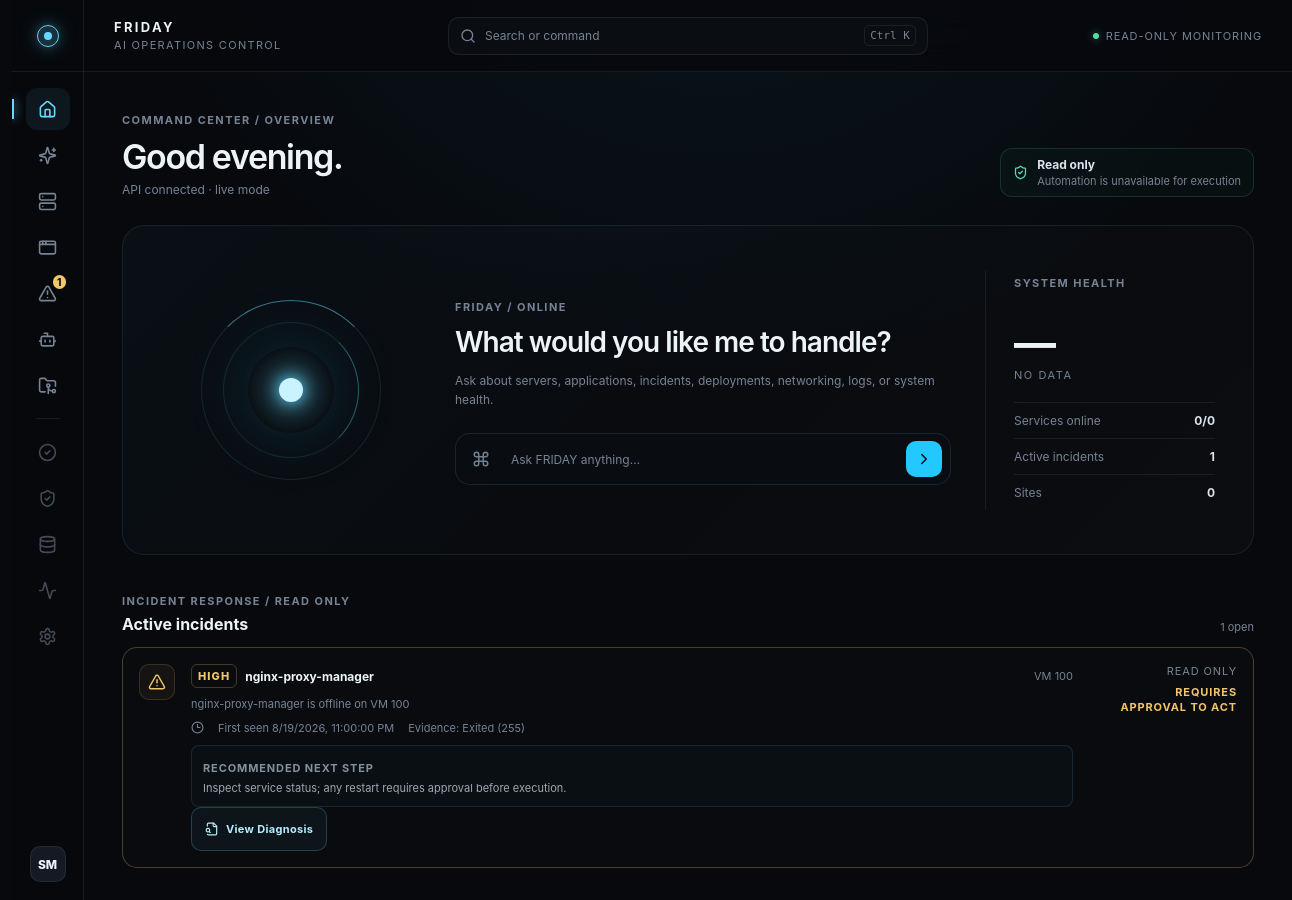
Test case: Friday v3 command center › fetches monitoring history when Incidents is activated
Expected: the text "API connected · live mode" is shown, [122,182,270,197]
Step 1. Click the button titled "Incidents" → (48, 293), box [26,272,70,314]
(page scrolled)
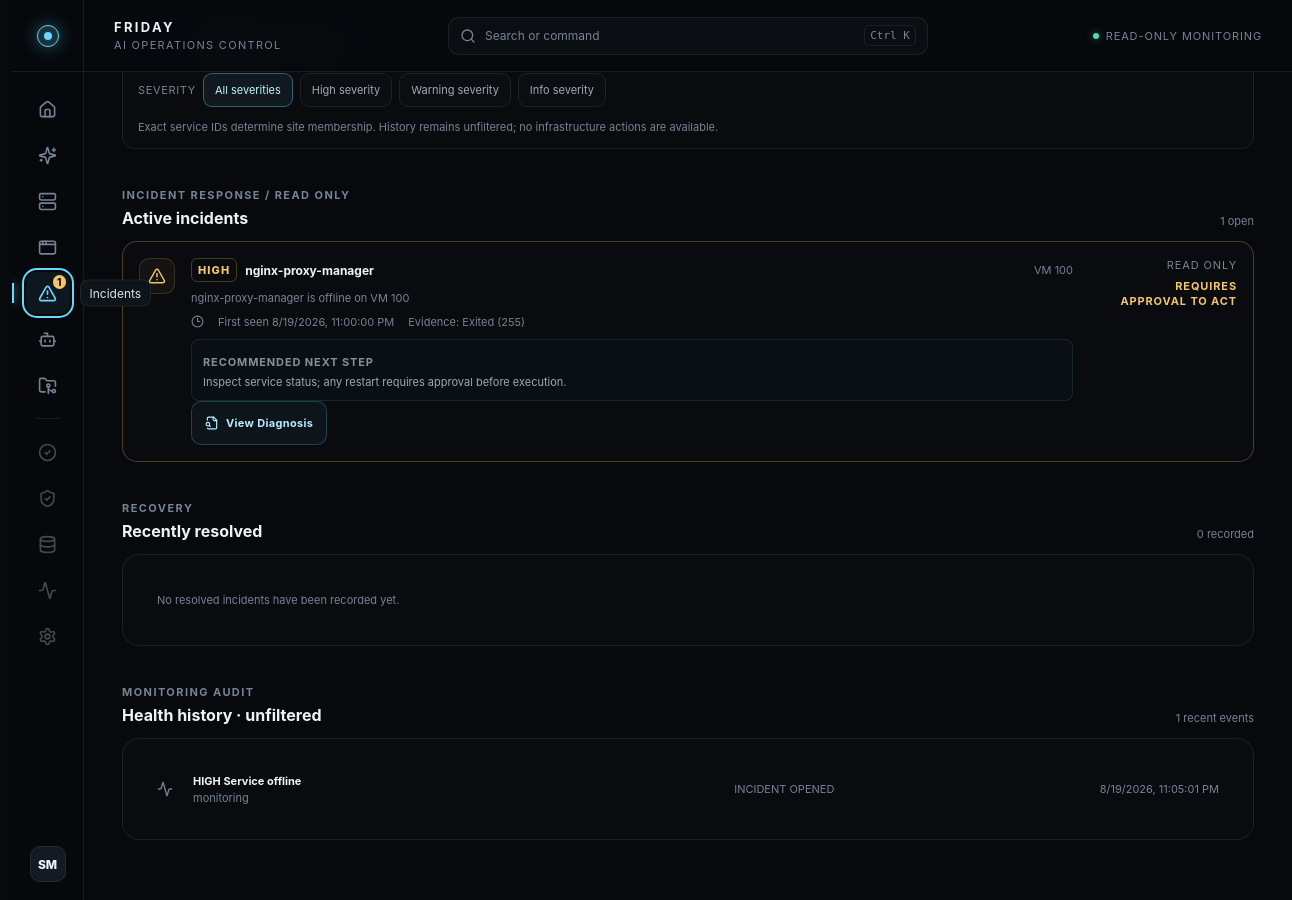
Result: the text "HIGH Service offline" is shown at [193,774,301,788]
